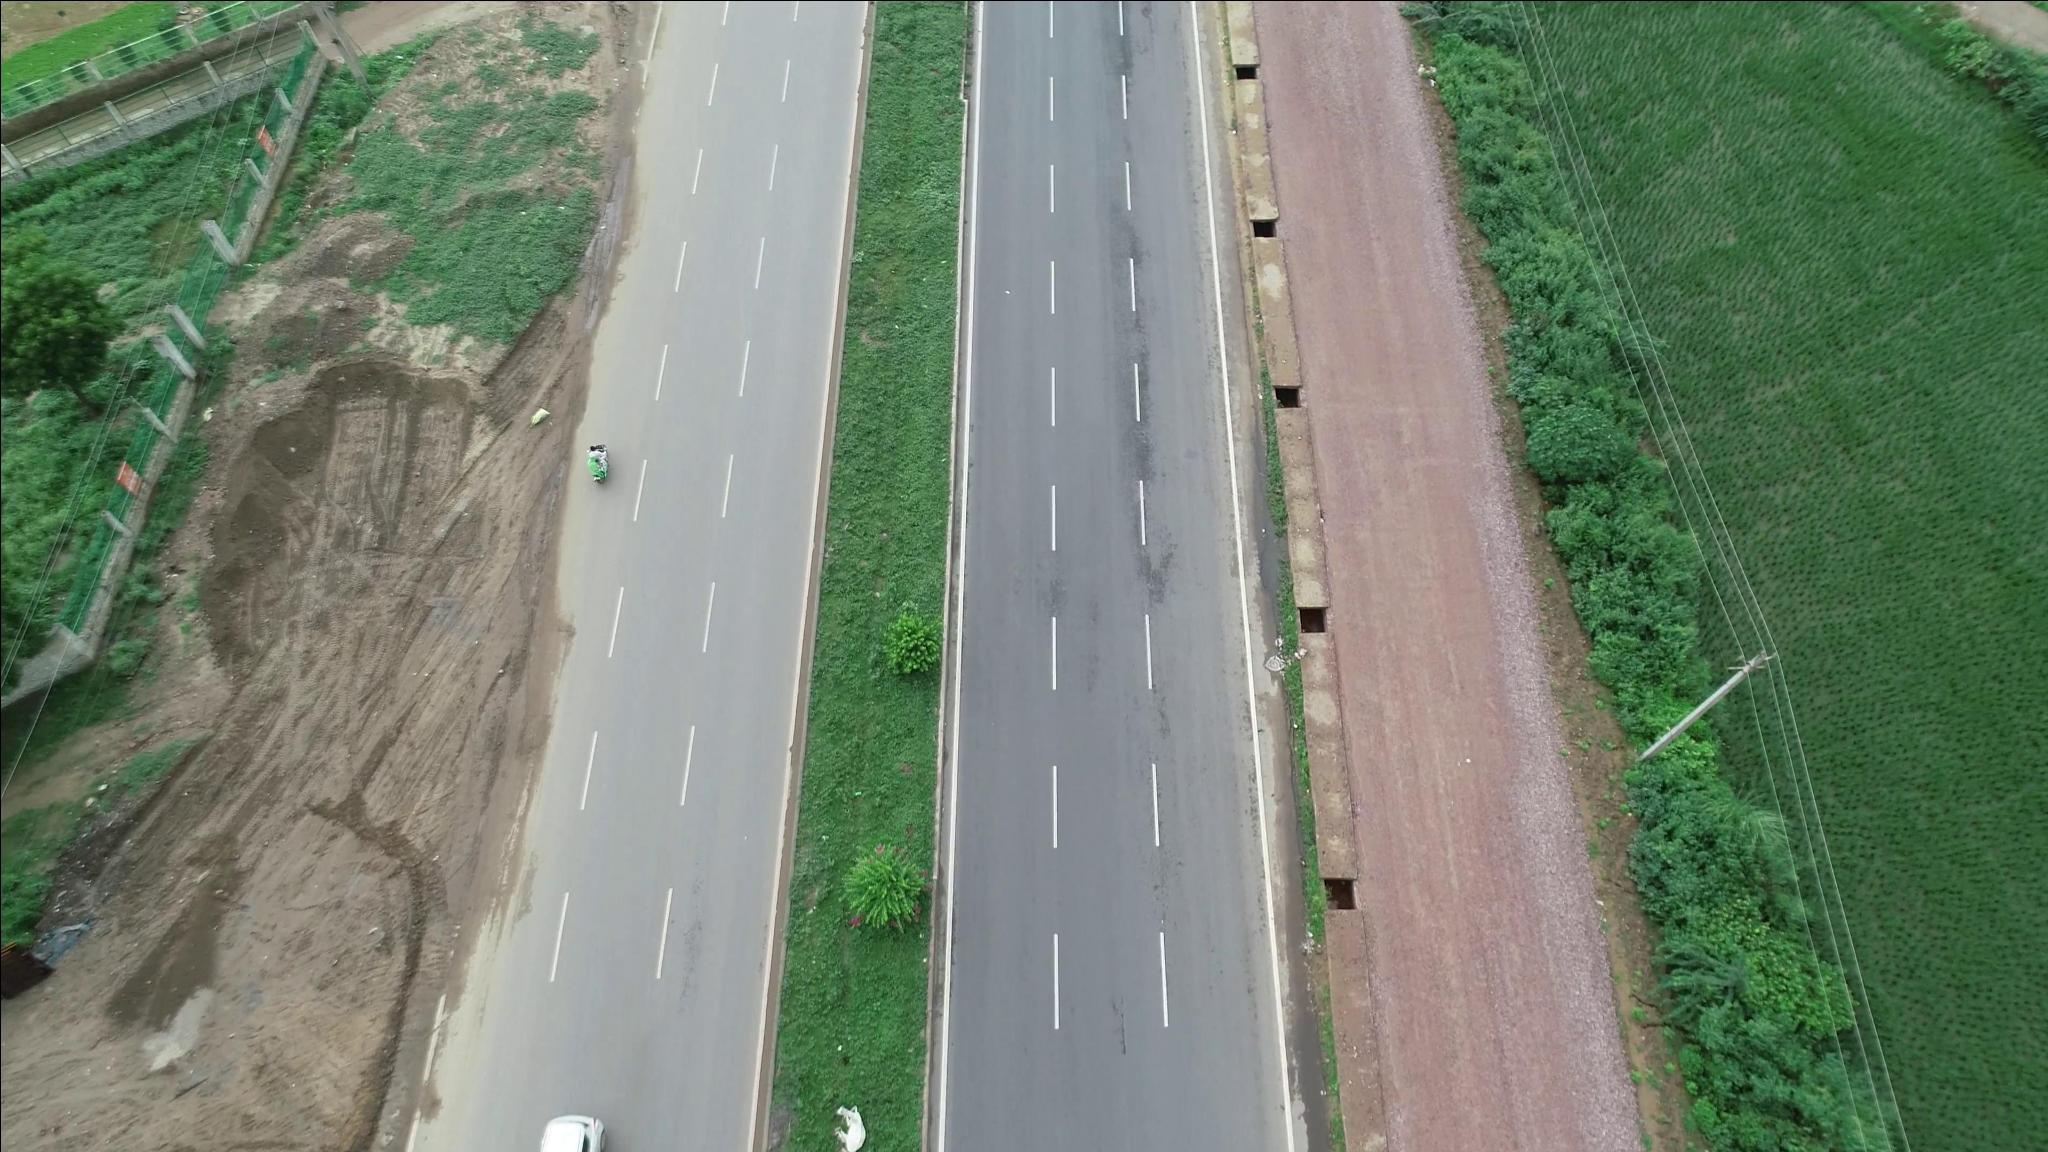Ravelling: (1100, 205, 1167, 497)
